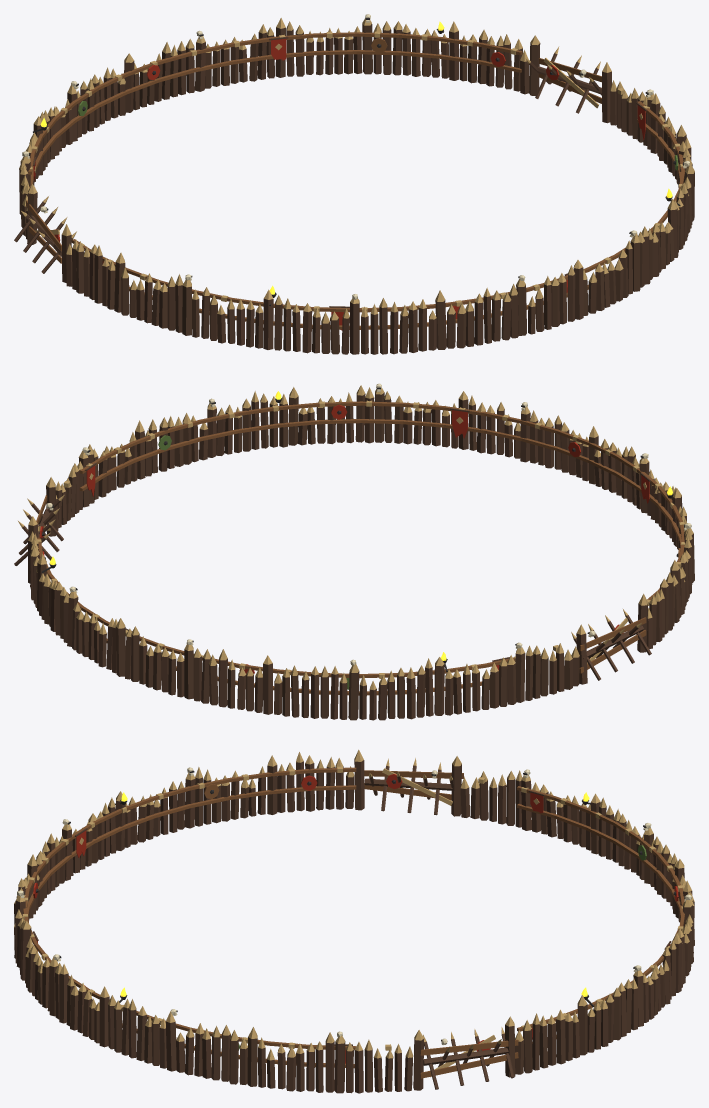
Rendered from Kriegslager_Ring.fbx.
The picture shows the model from 3 angles, top to bottom: view 1: azimuth 30°, elevation 25°; view 2: azimuth 150°, elevation 25°; view 3: azimuth 270°, elevation 25°; orthographic projection. The views are drawn at different scales.
Parts seen in each view (by area): view 1: Kriegslager_Ring; view 2: Kriegslager_Ring; view 3: Kriegslager_Ring.
Part boxes in pixels (x1,y1,x2,y2): Kriegslager_Ring: (14,14,694,354); Kriegslager_Ring: (14,383,694,720); Kriegslager_Ring: (14,749,694,1093).
Bounding box in the file's own units: 35.75 × 3.38 × 34.72.
